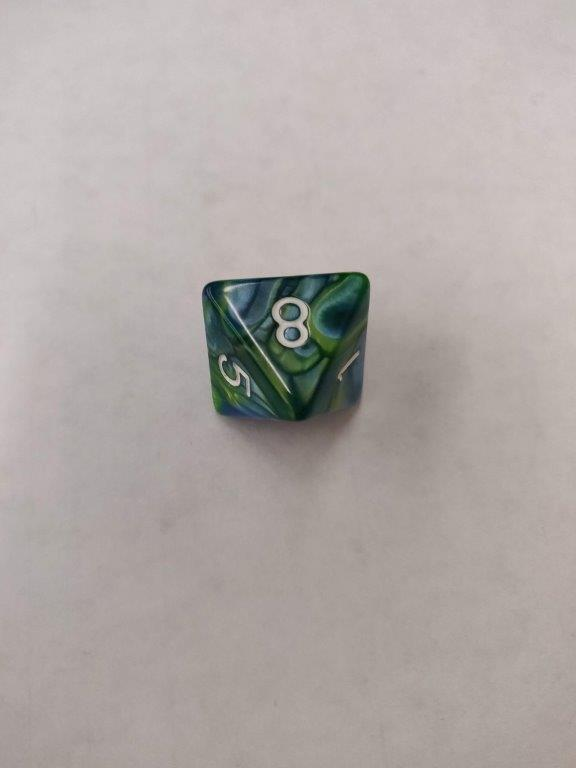d8-8: (203, 273, 369, 417)
